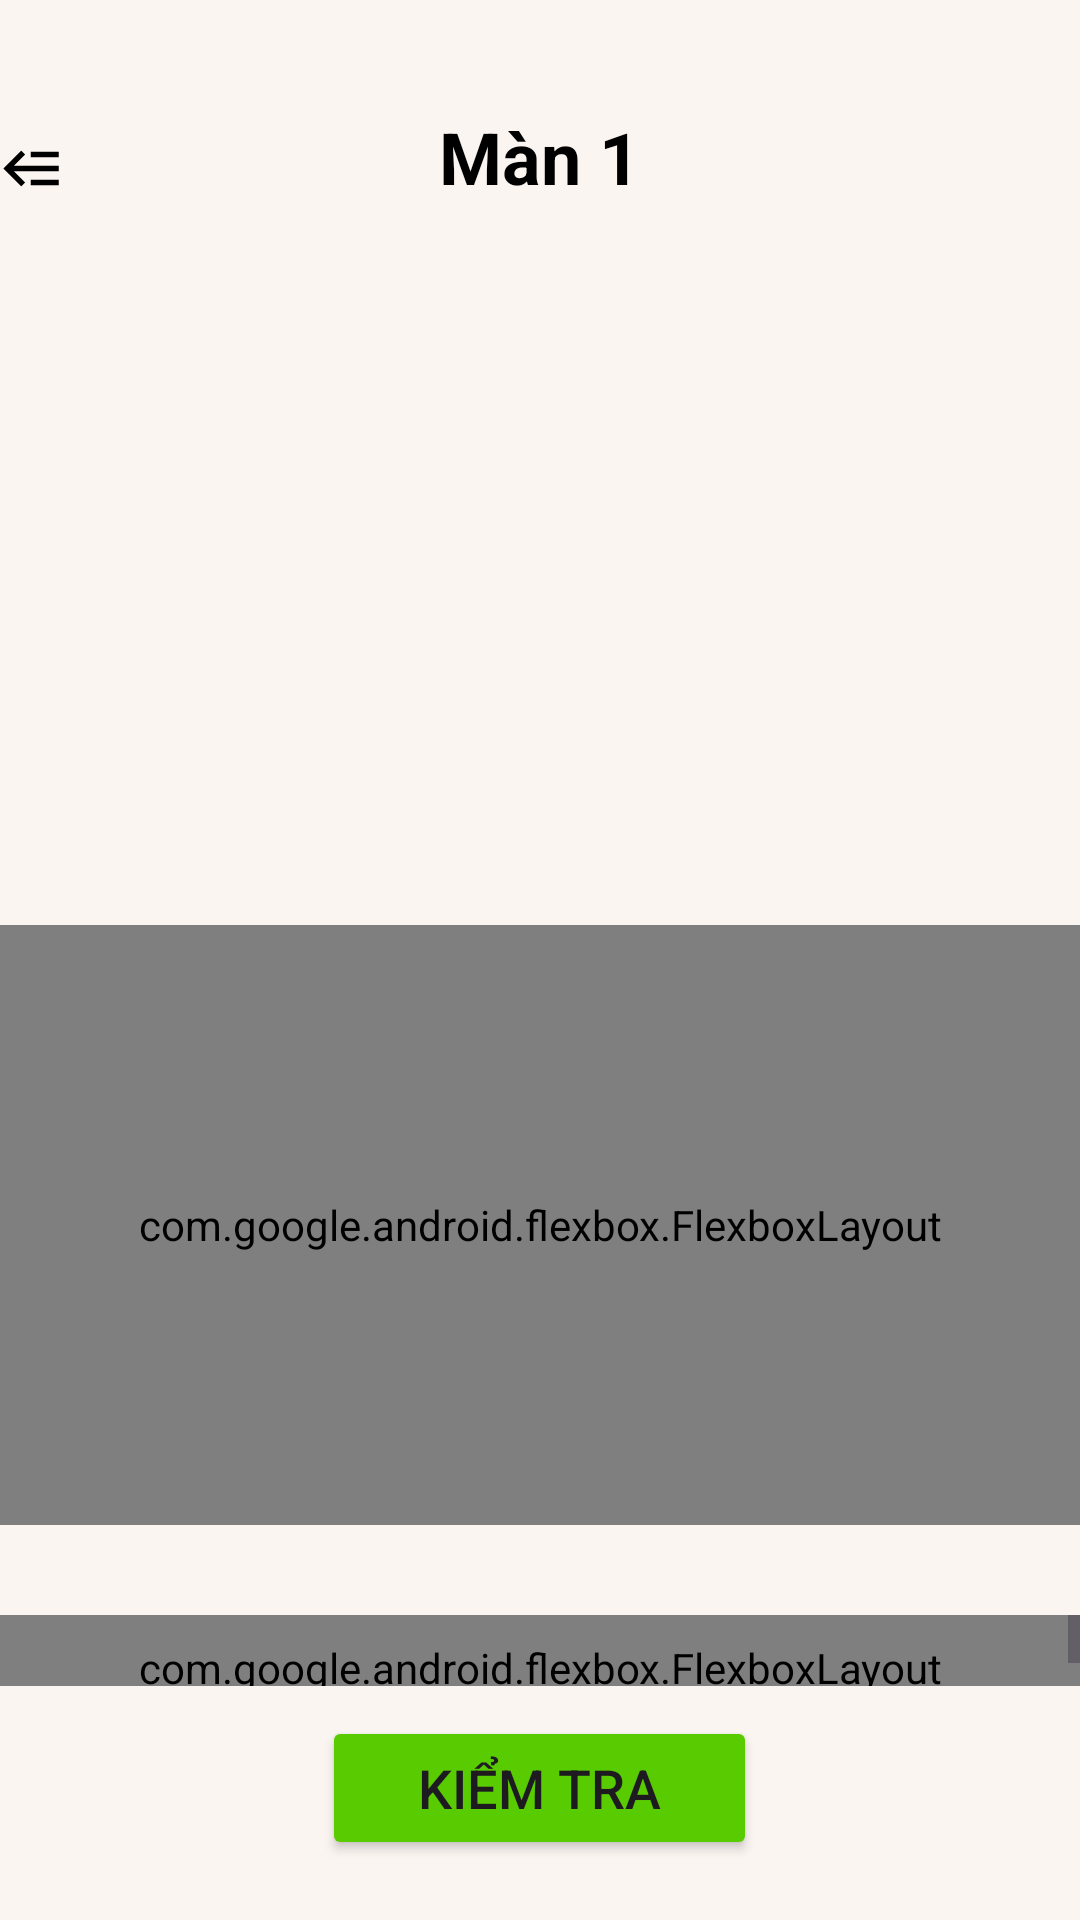

Where icons sit on this 1080x1920 app screen, as (x1, y1, x2, y2):
Back button: (3, 150, 59, 187)
